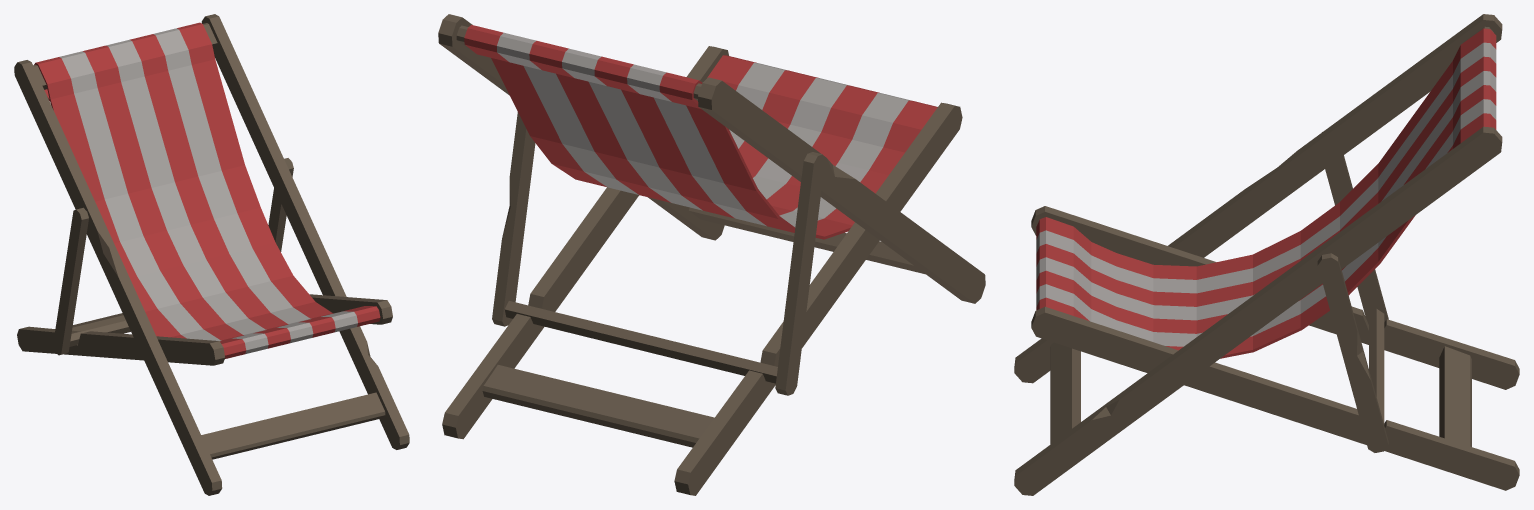
Rendered from SM_Props_City_Beach_DeckChair_03.fbx.
3 renders of one model, left to right at view 1: azimuth 30°, elevation 25°; view 2: azimuth 150°, elevation 25°; view 3: azimuth 270°, elevation 25°, orthographic. The views are drawn at different scales.
Parts seen in each view (by area): view 1: SM_Props_City_Beach_DeckChair_03; view 2: SM_Props_City_Beach_DeckChair_03; view 3: SM_Props_City_Beach_DeckChair_03.
Boxes of the visible parts, box(x1,y1,x2,y2) form: SM_Props_City_Beach_DeckChair_03: box(14, 14, 409, 495); SM_Props_City_Beach_DeckChair_03: box(438, 14, 985, 495); SM_Props_City_Beach_DeckChair_03: box(1014, 14, 1519, 495).
Size of the model in its own units: 107 by 143 by 180.
